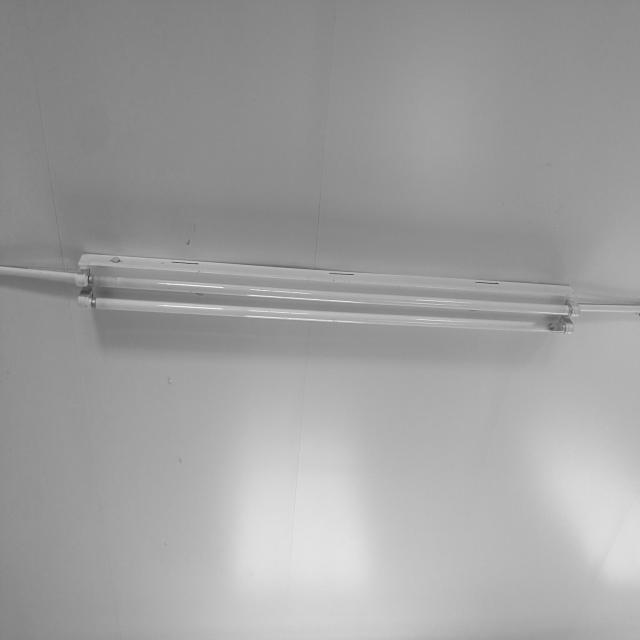light: (75, 251, 579, 335)
